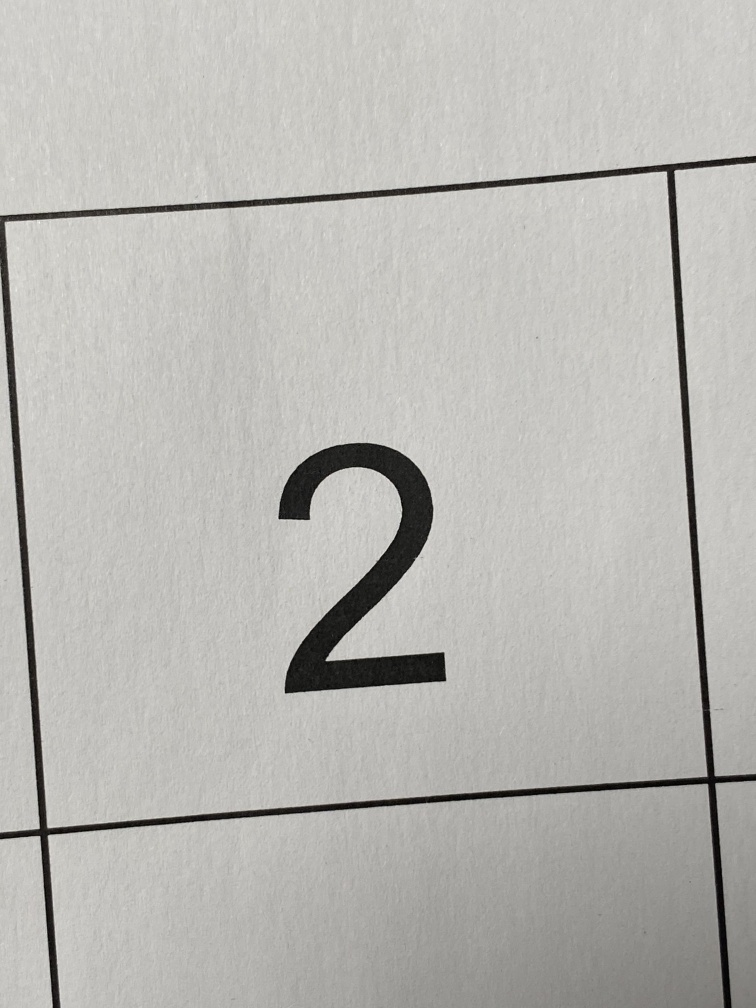two: (223, 393, 497, 749)
